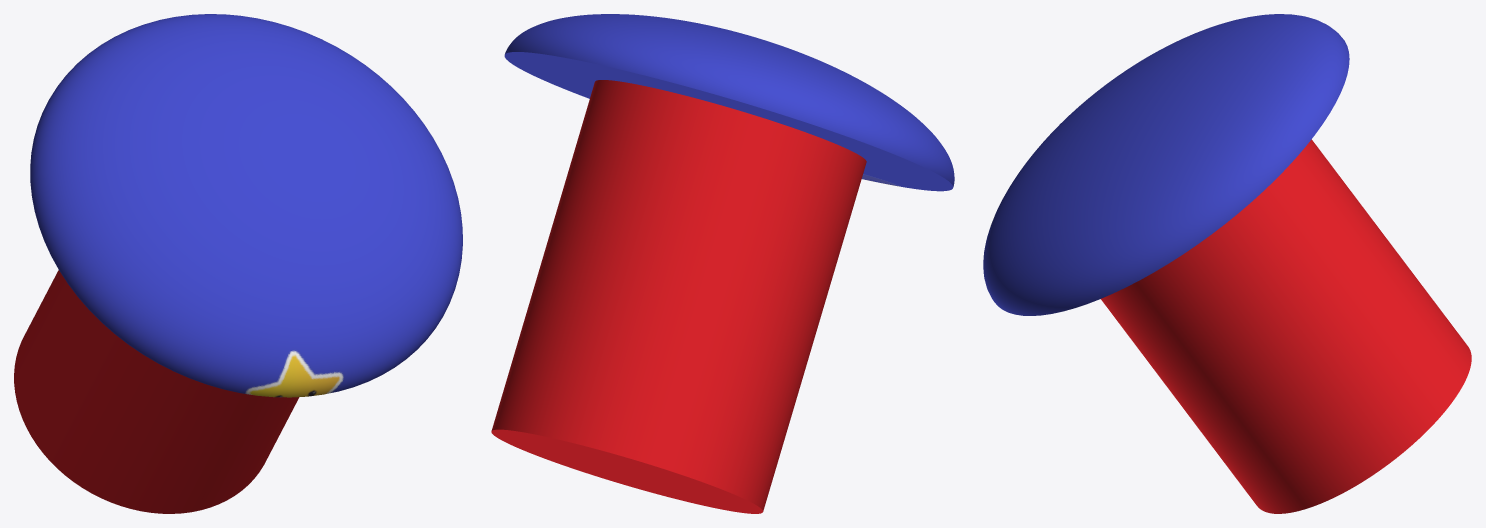
3 views of the same model, side by side, from view 1: azimuth 30°, elevation 25°; view 2: azimuth 150°, elevation 25°; view 3: azimuth 270°, elevation 25° (orthographic). The views are drawn at different scales.
Visible parts, largest first — view 1: mesh_id27, mesh_id29; view 2: mesh_id29, mesh_id27; view 3: mesh_id29, mesh_id27.
Boxes of the visible parts, x1=… form: mesh_id27: x1=30, y1=14, x2=462, y2=397; mesh_id29: x1=14, y1=270, x2=299, y2=513; mesh_id29: x1=491, y1=80, x2=866, y2=513; mesh_id27: x1=504, y1=14, x2=954, y2=191; mesh_id29: x1=1101, y1=139, x2=1471, y2=513; mesh_id27: x1=983, y1=14, x2=1349, y2=315.
Bounding box in the file's own units: 0.3198 × 0.3638 × 0.3574.
2 materials, 2 textured.
